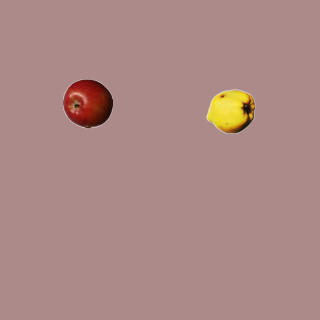Apple Braeburn: (62, 78, 112, 128)
Quince: (205, 86, 255, 136)
